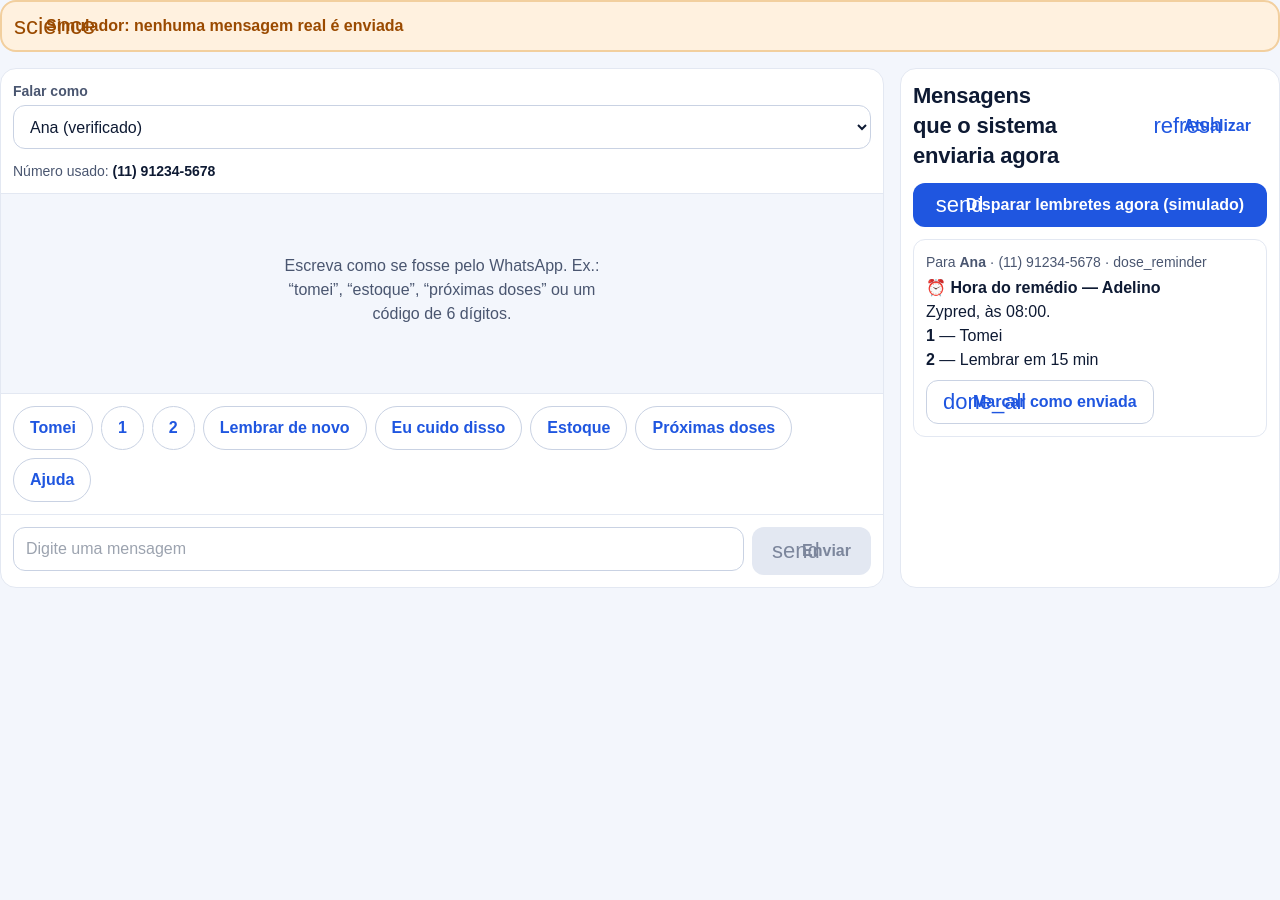
Test case: Lote 4A — Simulador de WhatsApp › envia pela fila e pelo worker, mostra o digitando simulado e a resposta (inclusive a do assistente indisponível)
Expected: the dropdown labelled "Falar como" is shown, [13,105,871,149]
Type "tomei" into the field labelled "mensagem" at [379, 549], box [13,527,744,571]
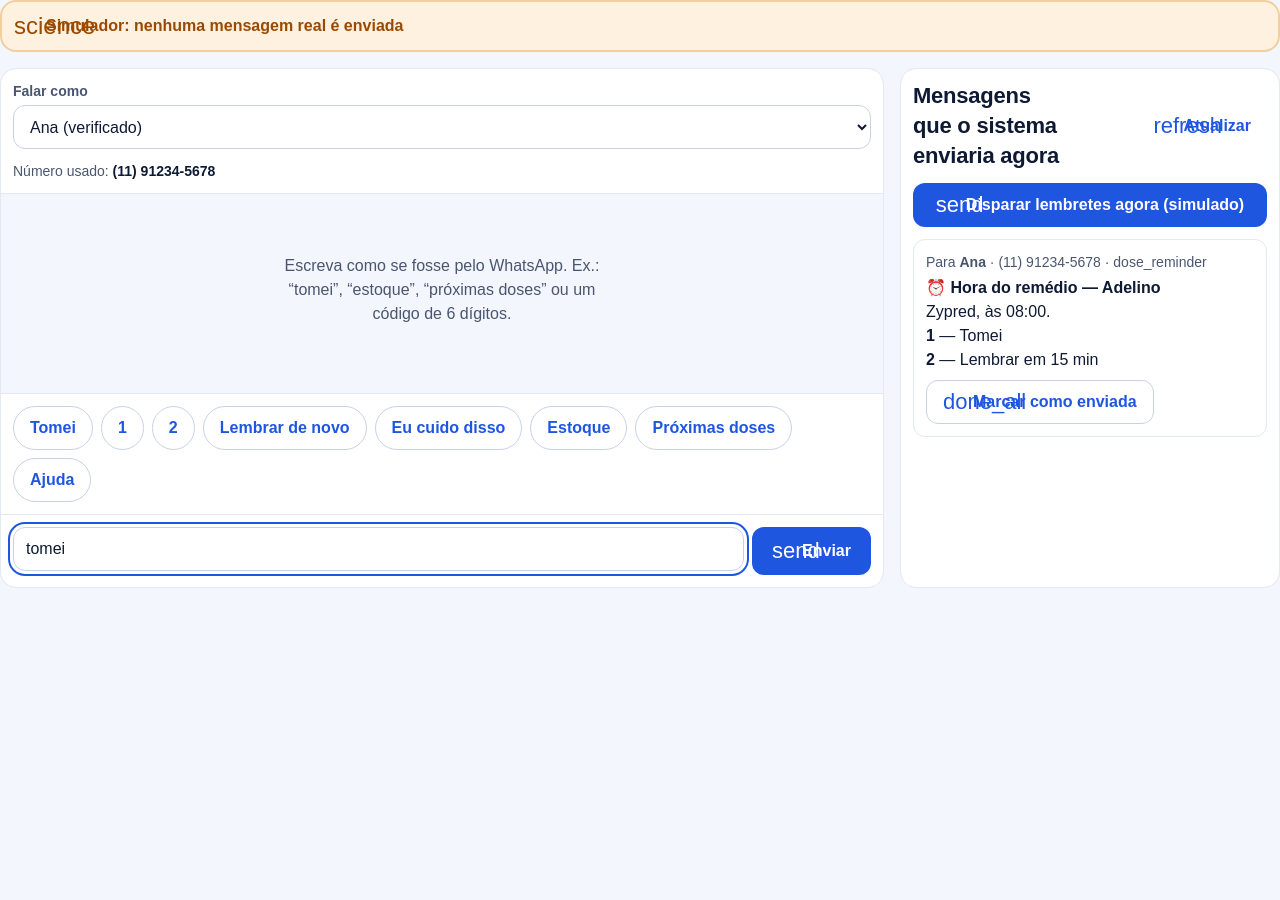
Click the button "Enviar" at [812, 551], box [752,527,871,575]
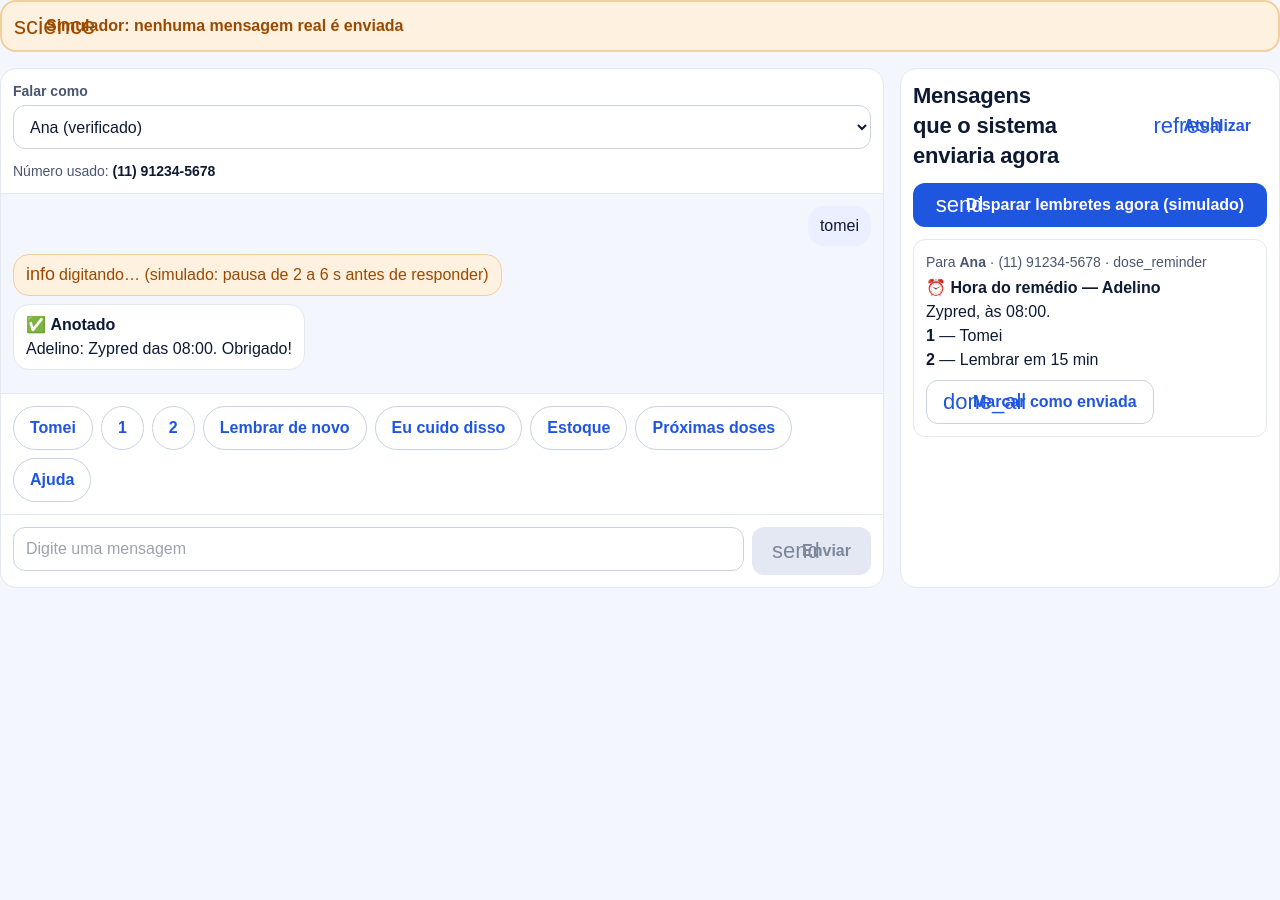
Now the text "Anotado" is shown, box [50,316,115,333]
Type "livre" into the field labelled "mensagem" at [379, 549], box [13,527,744,571]
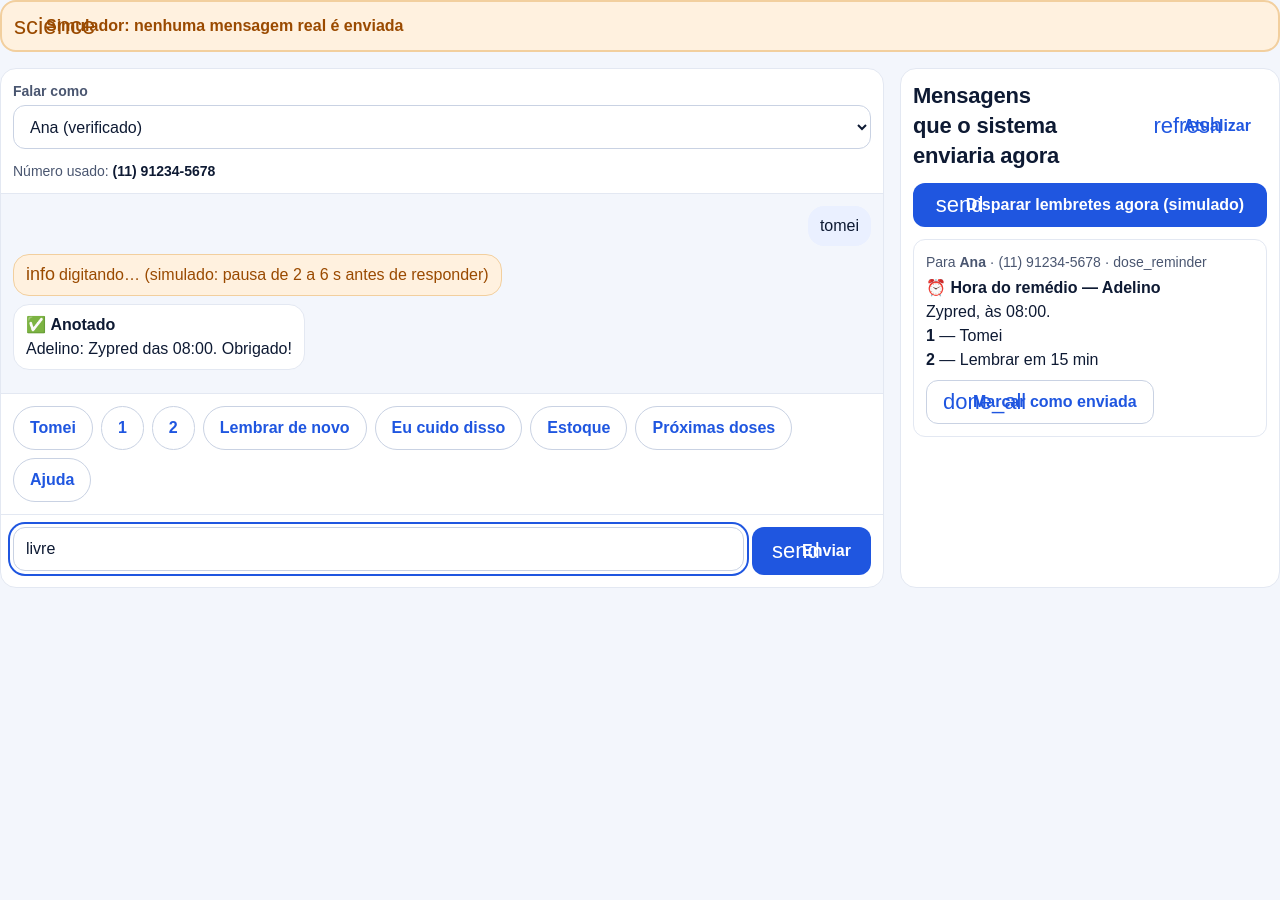
Click the button "Enviar" at [812, 551], box [752,527,871,575]
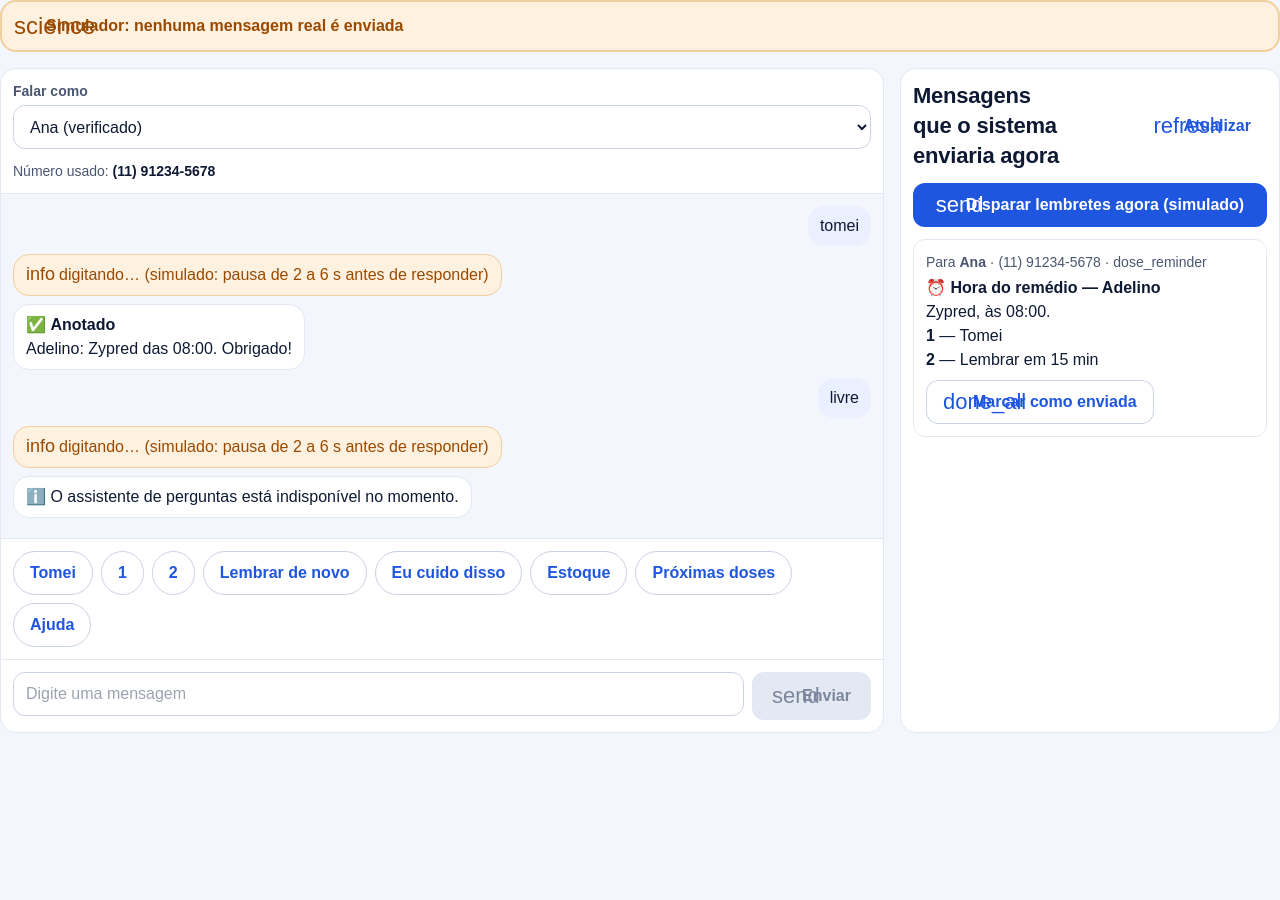
Now the 1st text "digitando… (simulado: pausa de 2 a 6 s antes de responder)" is shown, box [59,266,489,283]
Now the text "ℹ️ O assistente de perguntas está indisponível no momento." is shown, box [26,488,459,505]
